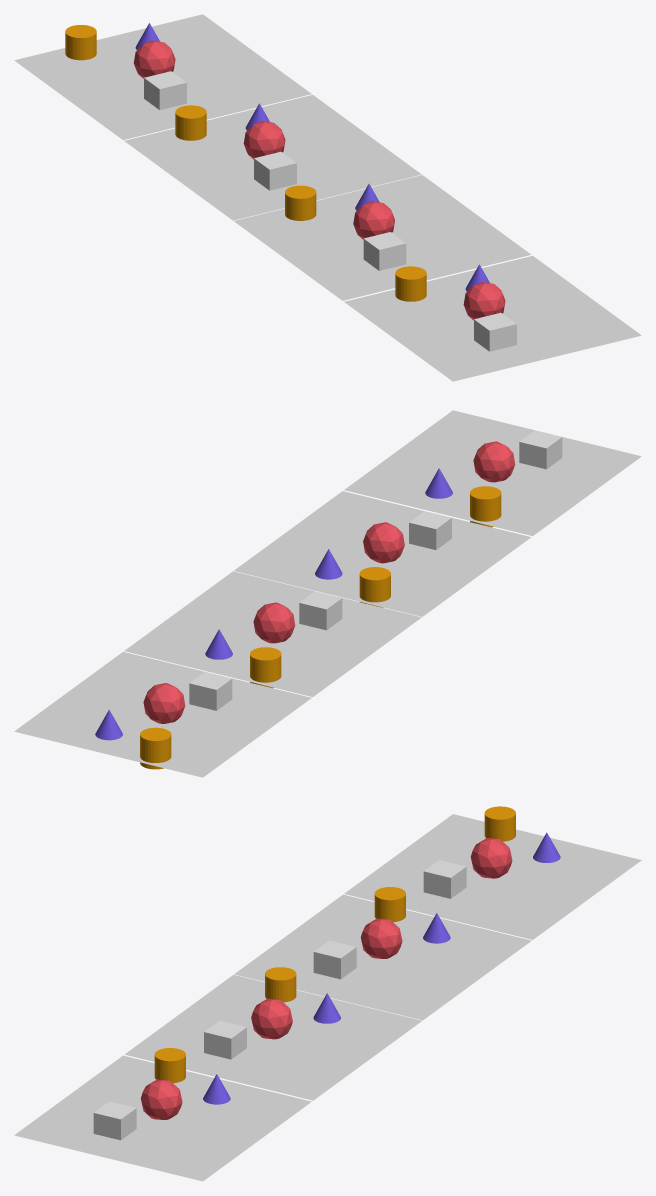
The model's file is tjs.gltf.
3 views of the same model, one above another, from view 1: azimuth 30°, elevation 25°; view 2: azimuth 150°, elevation 25°; view 3: azimuth 330°, elevation 25° (orthographic).
Visible parts, largest first — view 1: Plane.002, Plane, Plane.003, Plane.001, Cube, Cube.001, Cube.002, Cube.003, Icosphere.002, Icosphere.001, Icosphere.003, Icosphere (+4 smaller); view 2: Plane.002, Plane.001, Plane.003, Plane, Cube.001, Cube.002, Cube.003, Icosphere.001, Icosphere.002, Icosphere, Icosphere.003, Cube (+4 smaller); view 3: Plane.002, Plane.003, Plane.001, Plane, Cube.003, Cube.002, Cube.001, Icosphere, Icosphere.003, Icosphere.001, Icosphere.002, Cube (+4 smaller).
Boxes of the visible parts, x1,y1,x2,y2 form: Plane.002: (344,256,641,381); Plane: (234,175,531,300); Plane.003: (14,14,311,139); Plane.001: (124,95,421,220); Cube: (363,232,406,270); Cube.001: (254,151,296,190); Cube.002: (474,312,516,351); Cube.003: (144,71,186,109); Icosphere.002: (463,281,505,320); Icosphere.001: (243,120,285,159); Icosphere.003: (133,40,175,78); Icosphere: (353,201,394,239); Plane.002: (344,410,641,535); Plane.001: (124,571,421,696); Plane.003: (14,652,311,777); Plane: (234,491,531,616); Cube.001: (299,591,342,630); Cube.002: (519,430,562,469); Cube.003: (189,672,232,710); Icosphere.001: (253,602,295,643); Icosphere.002: (473,441,515,482); Icosphere: (363,522,404,563); Icosphere.003: (143,683,185,723); Cube: (409,511,451,549); Plane.002: (14,1055,311,1181); Plane.003: (344,814,641,939); Plane.001: (234,894,531,1020); Plane: (125,975,421,1100); Cube.003: (423,860,466,898); Cube.002: (93,1101,136,1140); Cube.001: (313,940,356,979); Icosphere: (251,998,292,1039); Icosphere.003: (470,838,512,878); Icosphere.001: (360,918,402,958); Icosphere.002: (140,1079,182,1119); Cube: (204,1020,246,1059).
Size of the model in its own units: 13.88 by 2.91 by 55.87.
